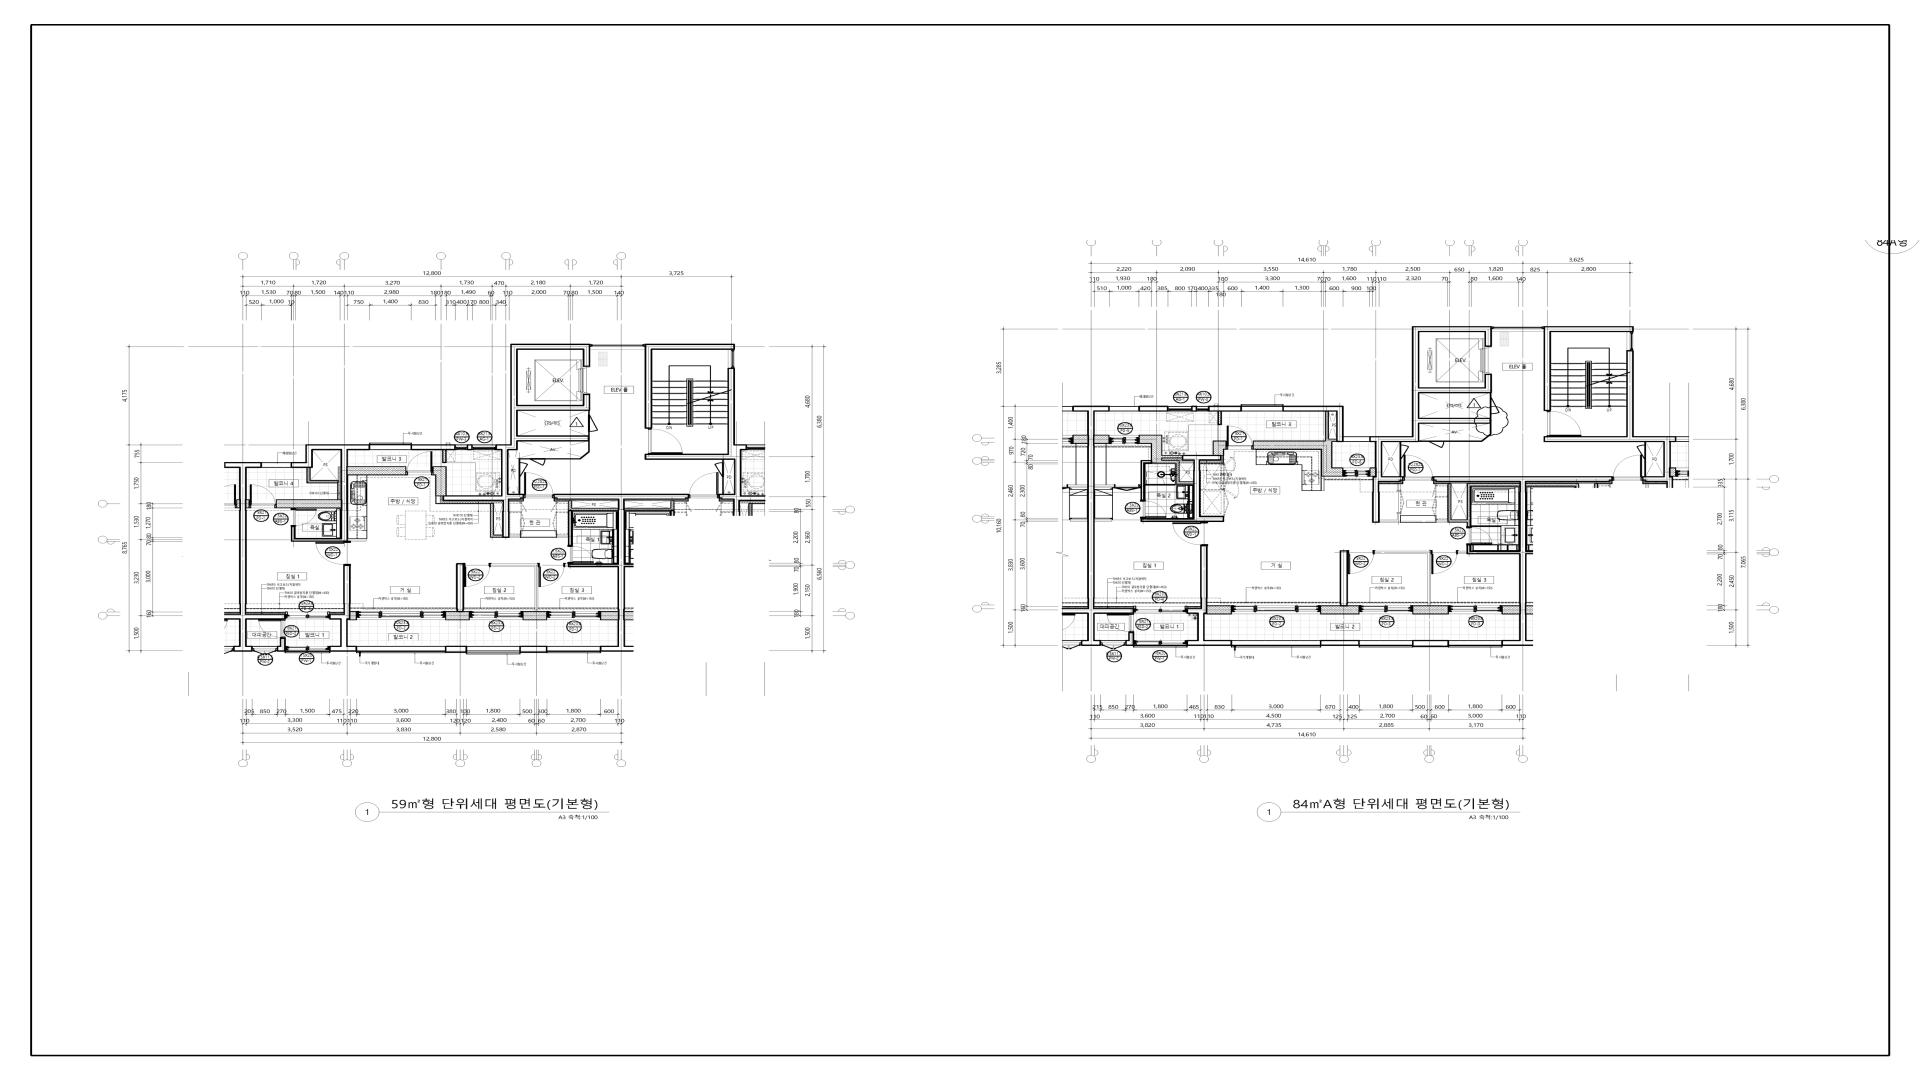door: (645, 429, 683, 454), (1547, 411, 1582, 436), (315, 542, 351, 566), (1172, 522, 1208, 546), (689, 472, 719, 499), (524, 472, 554, 498), (1403, 455, 1433, 481), (538, 563, 565, 588), (406, 451, 433, 476), (1227, 425, 1253, 450), (1431, 550, 1458, 574), (464, 563, 491, 587), (1348, 550, 1375, 574), (250, 484, 276, 508), (258, 620, 286, 638), (291, 508, 317, 527), (567, 545, 594, 563), (1107, 614, 1134, 632), (1140, 500, 1166, 518), (1466, 528, 1492, 544), (1146, 472, 1164, 486), (1114, 484, 1140, 491), (1492, 397, 1500, 414), (1399, 491, 1404, 513), (1429, 442, 1444, 448), (1401, 445, 1409, 455), (1637, 445, 1644, 455)
wall: (442, 344, 590, 538), (1370, 326, 1492, 523), (554, 494, 689, 652), (1544, 350, 1671, 476), (1433, 476, 1527, 646), (645, 368, 747, 500), (1087, 406, 1133, 646), (239, 462, 285, 652), (645, 344, 735, 429), (1544, 326, 1634, 411), (291, 444, 369, 542), (1253, 412, 1343, 477), (1141, 455, 1224, 522), (1375, 551, 1449, 615), (1187, 546, 1231, 646), (1436, 483, 1519, 528), (1419, 393, 1492, 442), (1139, 435, 1193, 500), (491, 564, 547, 620), (557, 500, 618, 545), (1320, 550, 1360, 615), (330, 566, 356, 652), (1284, 406, 1344, 442), (445, 563, 470, 620), (348, 466, 407, 476), (276, 499, 341, 508), (433, 466, 447, 504), (306, 468, 339, 483), (490, 503, 502, 538), (412, 444, 456, 450), (1207, 605, 1232, 615), (1413, 640, 1448, 647), (1321, 640, 1359, 646), (1379, 513, 1400, 523), (1208, 406, 1241, 412), (1213, 441, 1227, 455), (1502, 605, 1520, 615), (521, 646, 546, 653), (1139, 406, 1168, 412), (601, 611, 618, 620), (1094, 435, 1110, 444), (446, 646, 466, 653), (277, 638, 286, 652), (1126, 632, 1134, 646), (1217, 412, 1222, 425), (442, 450, 447, 463), (350, 611, 357, 620), (1094, 519, 1112, 522), (1370, 468, 1375, 476), (1094, 485, 1114, 487), (246, 499, 250, 508), (348, 539, 366, 541), (467, 444, 473, 450), (1191, 406, 1197, 412), (510, 535, 520, 538), (1458, 551, 1467, 554), (1164, 484, 1175, 486), (1397, 484, 1400, 491), (565, 564, 568, 567)
window: (356, 611, 445, 620), (1232, 605, 1320, 614), (1231, 640, 1321, 648), (356, 646, 446, 653), (466, 646, 521, 655), (547, 611, 601, 620), (469, 611, 523, 620), (1359, 605, 1412, 614), (1449, 605, 1502, 614), (1241, 404, 1284, 415), (1448, 640, 1503, 648), (1133, 640, 1188, 648), (1359, 640, 1413, 648), (546, 646, 601, 653), (1133, 606, 1187, 613), (285, 612, 330, 620), (286, 646, 331, 653), (1492, 326, 1544, 332), (369, 443, 412, 450), (590, 344, 645, 349), (1109, 435, 1139, 444), (252, 646, 277, 656), (1101, 640, 1126, 650), (1343, 468, 1370, 477), (1343, 436, 1370, 445), (262, 462, 291, 468), (1110, 406, 1139, 412), (473, 444, 496, 450), (728, 350, 735, 368), (1168, 406, 1191, 411), (1627, 332, 1633, 350), (456, 444, 467, 450), (1197, 406, 1208, 411)
